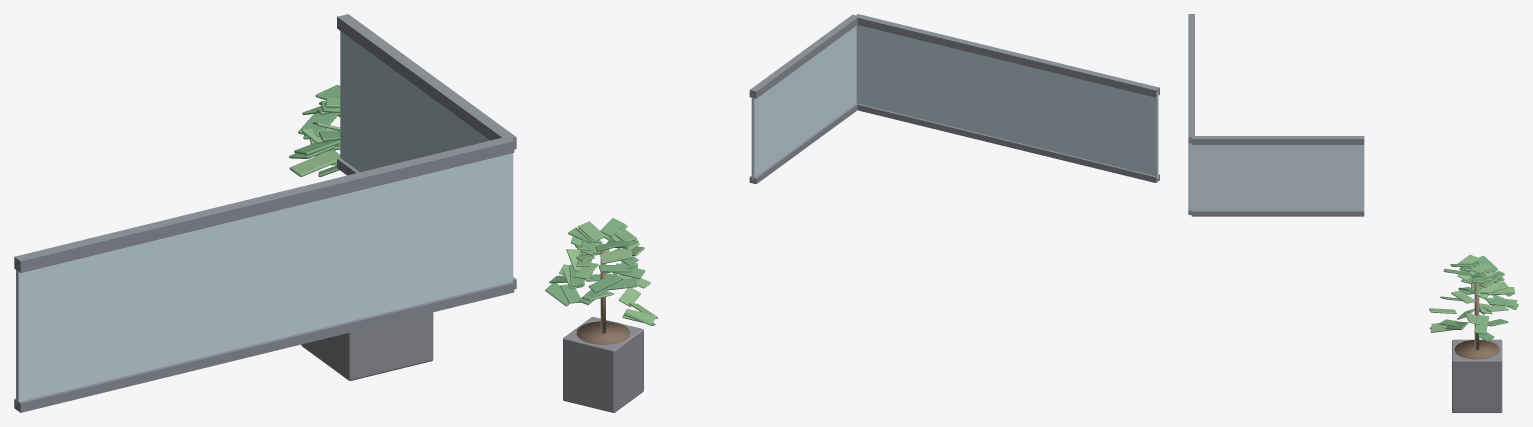
The model's file is oficina_cubiculos.rincon.fbx.
The picture shows the model from 3 angles, left to right: view 1: azimuth 30°, elevation 25°; view 2: azimuth 150°, elevation 25°; view 3: azimuth 270°, elevation 25°; orthographic projection. The views are drawn at different scales.
Parts seen in each view (by area): view 1: Vidrio, Vidrio.001, Perfil, Perfil.001, Macetero, Perfil.002, Hoja.041, Hoja.012; view 2: Vidrio, Vidrio.001, Macetero, Perfil, Perfil.001, Perfil.002, Tierra, Perfil.003; view 3: Vidrio.001, Macetero, Perfil.002, Perfil.003, Perfil, Tierra.
Boxes of the visible parts, <box> form: Vidrio: <box>16,153,512,404</box>; Vidrio.001: <box>340,31,513,281</box>; Perfil: <box>14,136,514,272</box>; Perfil.001: <box>14,281,514,412</box>; Macetero: <box>301,312,433,380</box>; Perfil.002: <box>337,14,516,149</box>; Hoja.041: <box>289,149,340,176</box>; Hoja.012: <box>298,112,338,136</box>; Vidrio: <box>856,25,1158,178</box>; Vidrio.001: <box>751,26,856,180</box>; Macetero: <box>563,317,643,412</box>; Perfil: <box>854,14,1159,97</box>; Perfil.001: <box>856,103,1159,182</box>; Perfil.002: <box>749,14,857,98</box>; Tierra: <box>576,321,629,344</box>; Perfil.003: <box>749,103,857,184</box>; Vidrio.001: <box>1191,145,1364,210</box>; Macetero: <box>1452,339,1502,412</box>; Perfil.002: <box>1191,136,1364,144</box>; Perfil.003: <box>1191,211,1364,216</box>; Perfil: <box>1188,14,1194,143</box>; Tierra: <box>1454,340,1499,359</box>.
Size of the model in its own units: 3.18 by 1.92 by 2.49.
